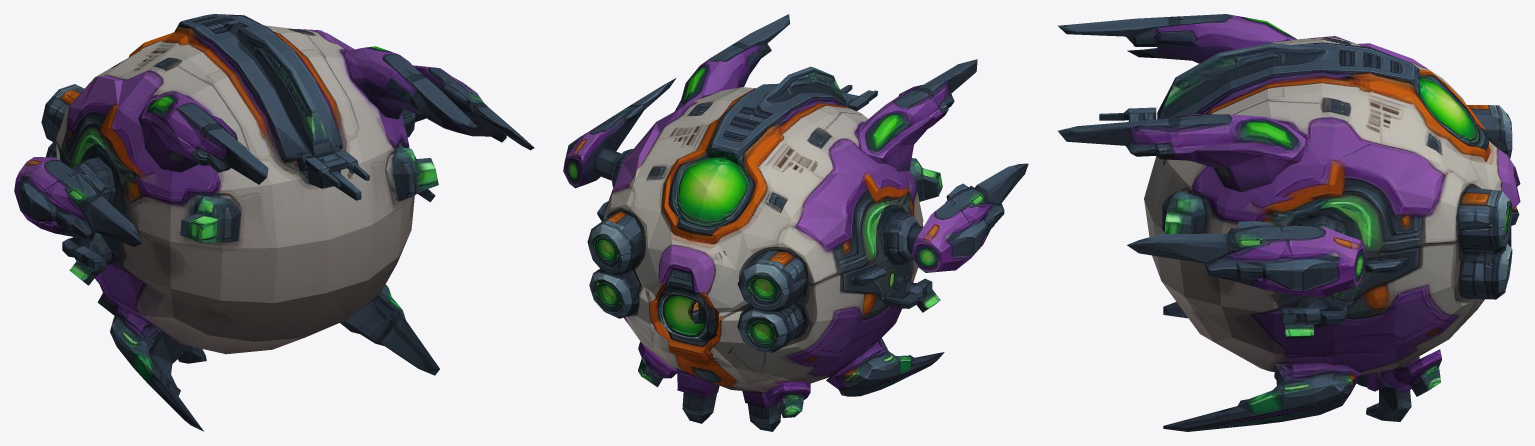
The model's file is dronsito.glb.
The picture shows the model from 3 angles, left to right: view 1: azimuth 30°, elevation 25°; view 2: azimuth 150°, elevation 25°; view 3: azimuth 270°, elevation 25°; orthographic projection. The views are drawn at different scales.
Visible parts, largest first — view 1: tripo_node_e79bd588-4672-4760-8f68-531892195aa7; view 2: tripo_node_e79bd588-4672-4760-8f68-531892195aa7; view 3: tripo_node_e79bd588-4672-4760-8f68-531892195aa7.
Boxes of the visible parts, x1,y1,x2,y2 form: tripo_node_e79bd588-4672-4760-8f68-531892195aa7: (14, 14, 534, 431); tripo_node_e79bd588-4672-4760-8f68-531892195aa7: (563, 14, 1028, 431); tripo_node_e79bd588-4672-4760-8f68-531892195aa7: (1057, 14, 1520, 431).
Bounding box in the file's own units: 2 × 1.52 × 1.78.
Materials: 1 (1 with a texture image).
